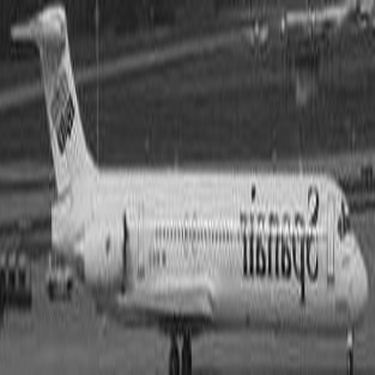airplane: (3, 3, 370, 371)
